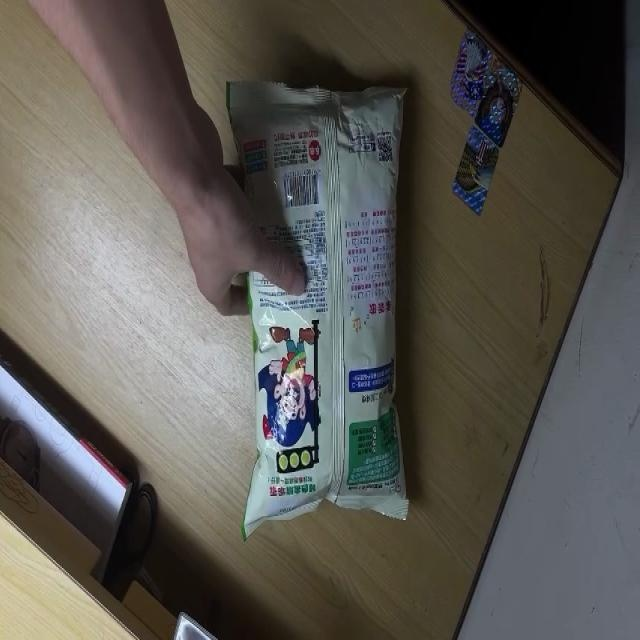Good-Luck: (227, 81, 411, 542)
